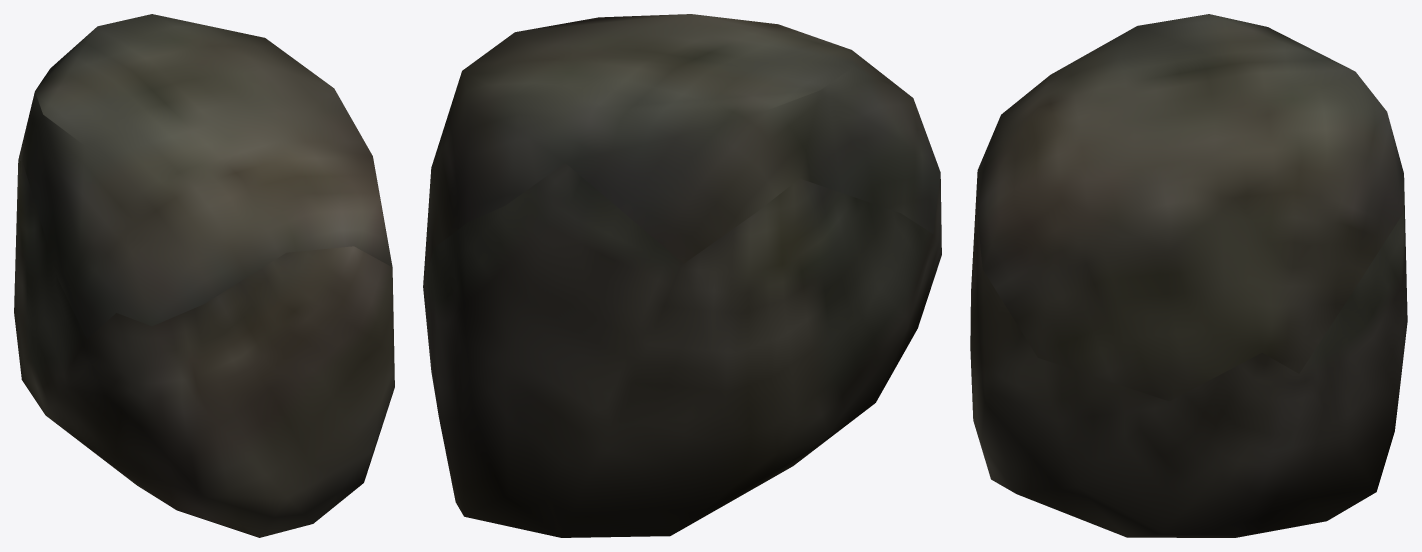
The picture shows the model from 3 angles, left to right: view 1: azimuth 30°, elevation 25°; view 2: azimuth 150°, elevation 25°; view 3: azimuth 270°, elevation 25°; orthographic projection. The views are drawn at different scales.
Visible parts, largest first — view 1: smallrock2; view 2: smallrock2; view 3: smallrock2.
Boxes of the visible parts, left/top/right/bottom form: smallrock2: left=14, top=14, right=394, bottom=537; smallrock2: left=423, top=14, right=941, bottom=537; smallrock2: left=970, top=14, right=1407, bottom=537.
Size of the model in its own units: 0.5553 by 0.6308 by 0.6137.
Materials: 1 (1 with a texture image).
